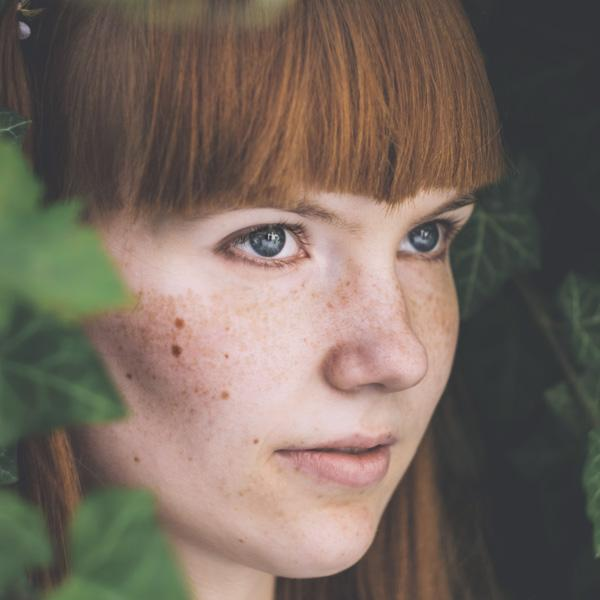Eyes: (205, 213, 326, 277), (379, 208, 469, 273)
